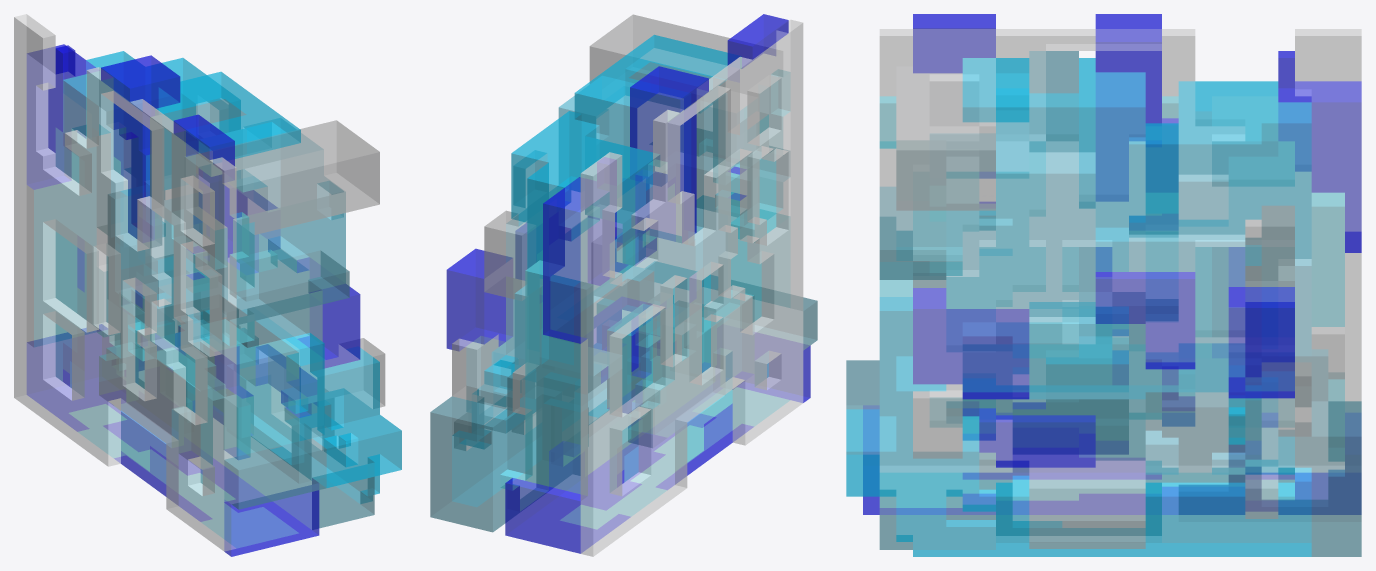
File: SrnxzJghyUX.obj
The picture shows the model from 3 angles, left to right: view 1: azimuth 30°, elevation 25°; view 2: azimuth 150°, elevation 25°; view 3: azimuth 270°, elevation 25°; orthographic projection. The views are drawn at different scales.
Visible parts, largest first — view 1: transparent; view 2: transparent; view 3: transparent.
Boxes of the visible parts, left/top/right/bottom form: transparent: left=14, top=14, right=401, bottom=556; transparent: left=430, top=14, right=817, bottom=556; transparent: left=846, top=14, right=1361, bottom=556.
Size of the model in its own units: 1.4 by 3 by 3.1.
1 material, 1 textured.
